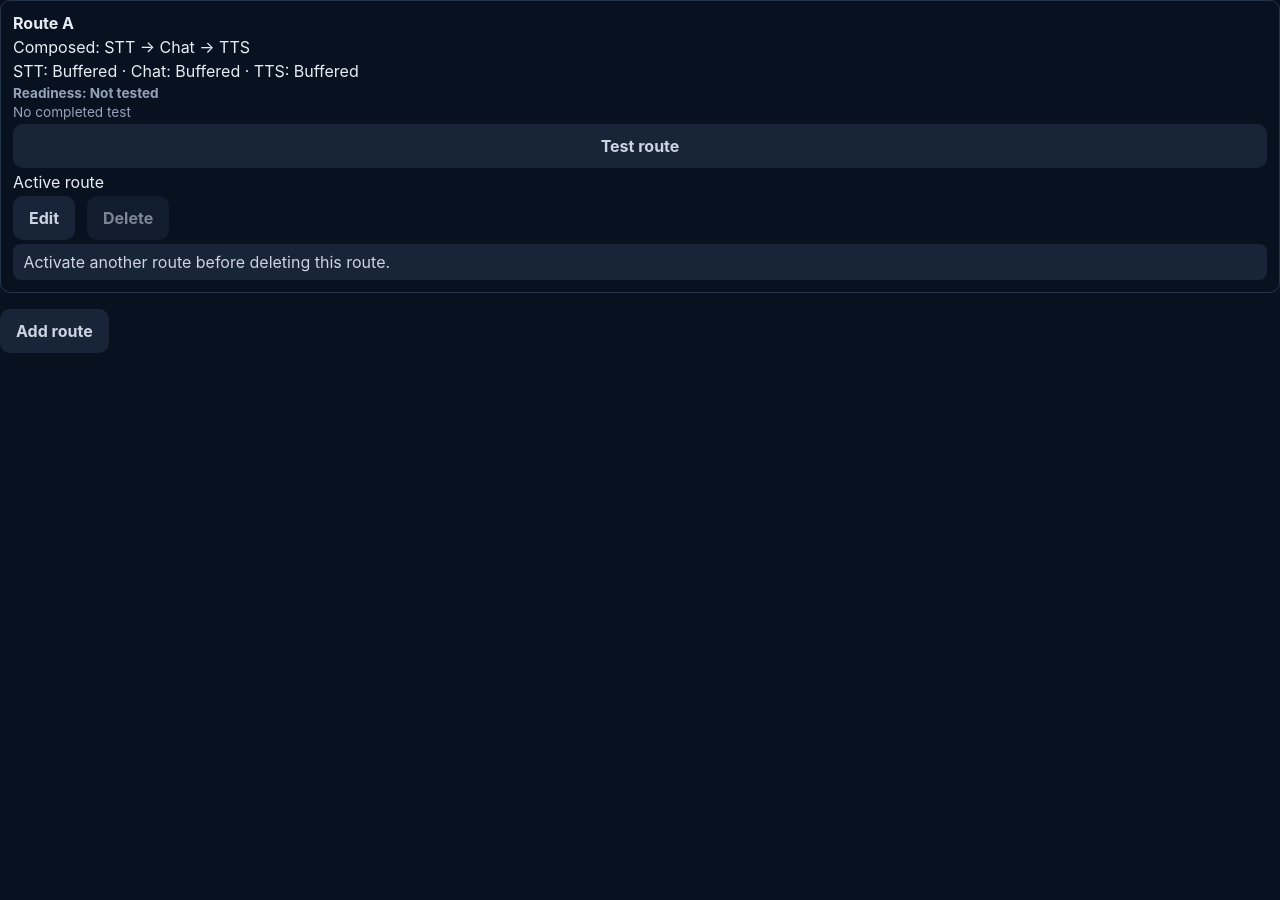
Scenario: runtime routing management › opens a route editor inside the selected list item
The width and height of the screenshot is (1280, 900).
Click the button "Edit".
click(44, 218)  # box [13, 196, 75, 240]
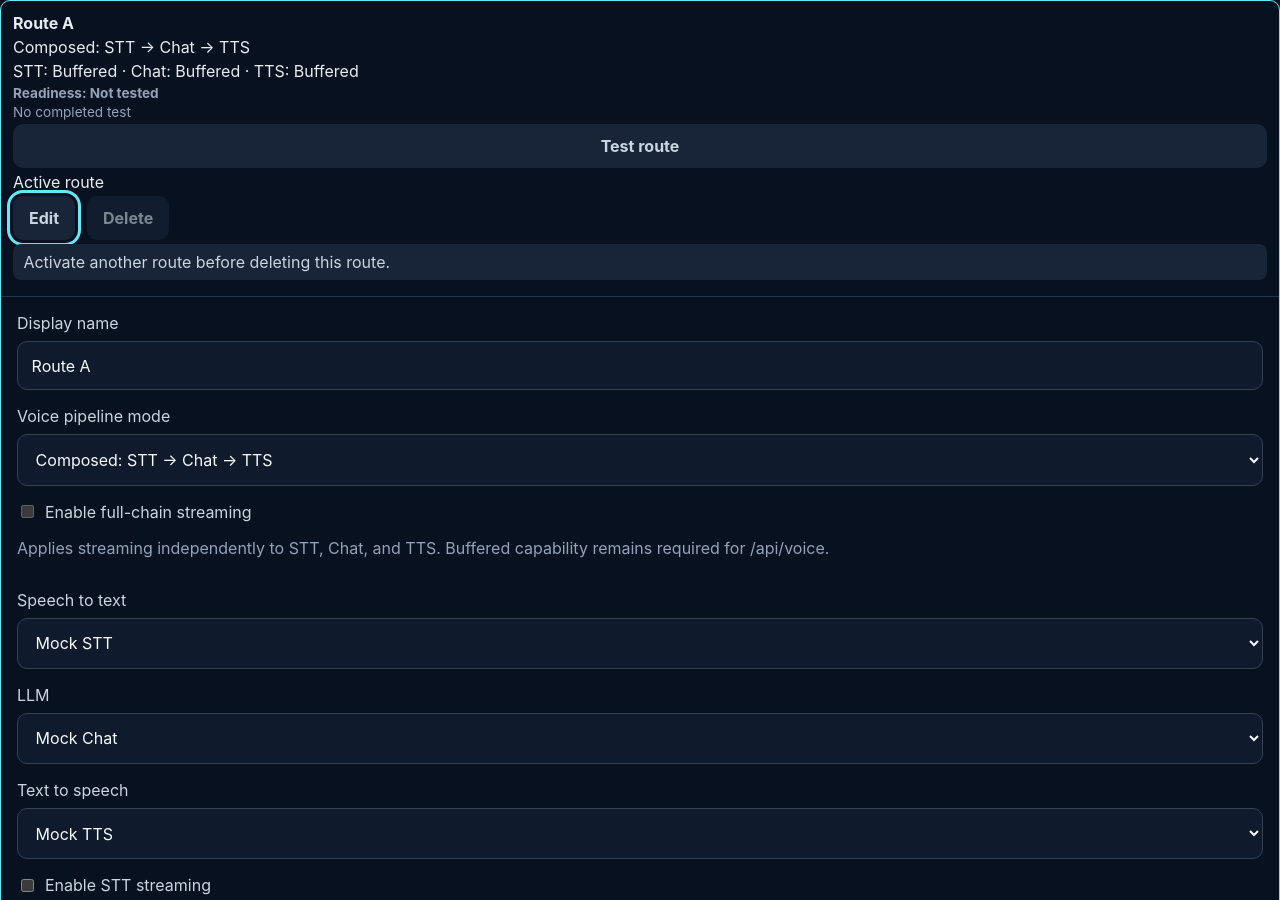
Result: the field labelled "Display name" holds "Route A" at [17, 341, 1263, 390]
